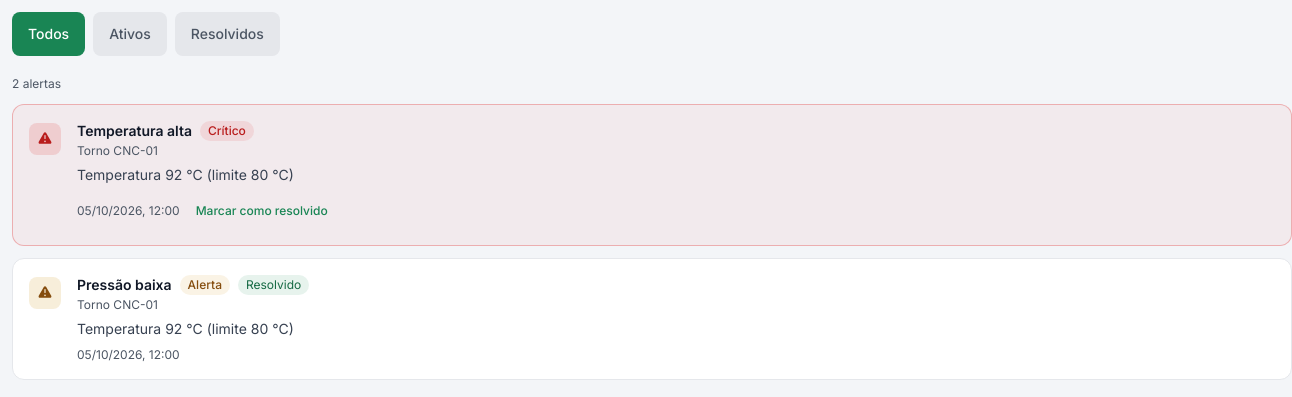
AlertsPage › lists alerts and filters active/resolved
expect the text "Temperatura alta" is shown: met, box [77,121,192,141]
expect the text "Pressão baixa" is shown: met, box [77,275,172,295]
What coordinates should you click on to do the following:
click the button "Ativos"
I would click on:
 (130, 34)
Its box is [93,12,167,56].
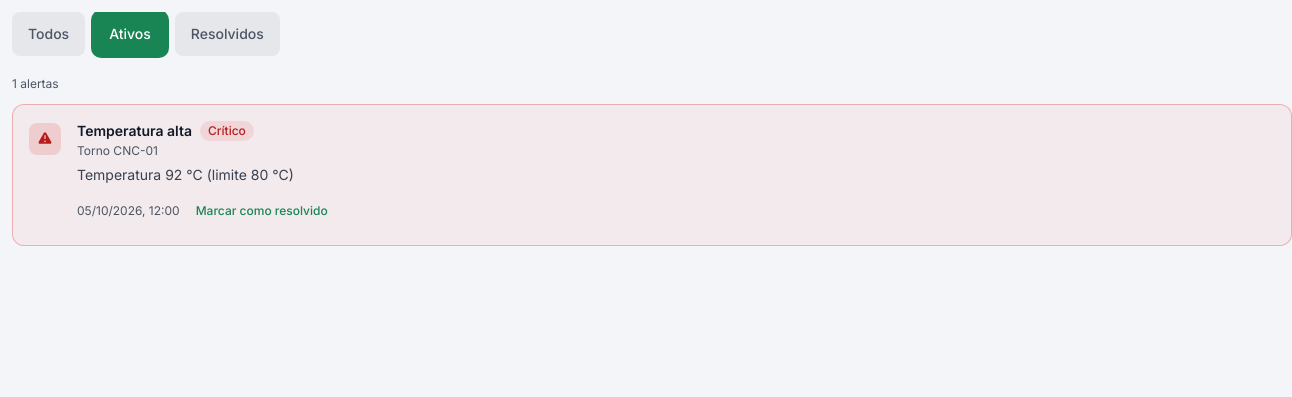
expect the text "Temperatura alta" is shown: met, box [77,121,192,141]
expect the text "Pressão baixa" is gone: met
What coordinates should you click on to do the following:
click the button "Resolvidos"
I would click on:
 (227, 34)
Its box is [175,12,280,56].
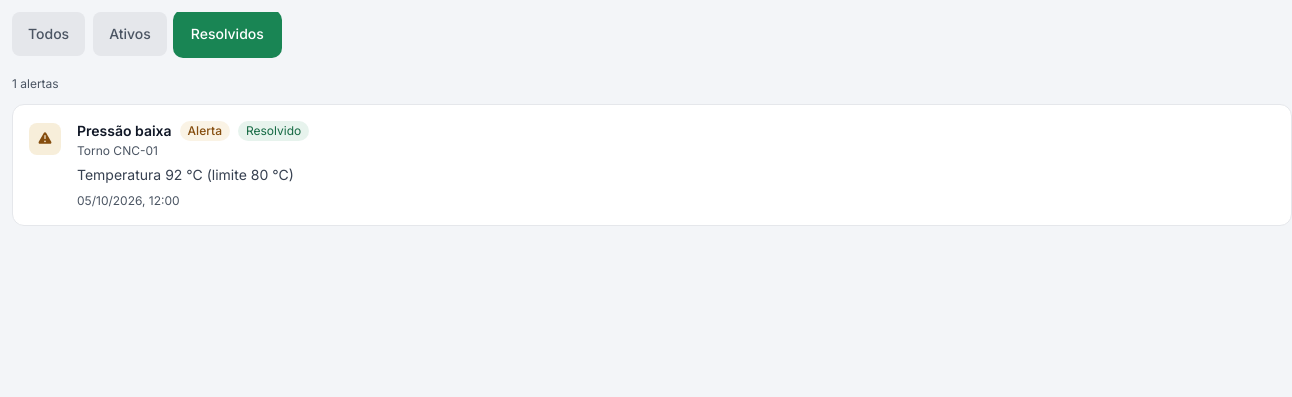
expect the text "Pressão baixa" is shown: met, box [77,121,172,141]
expect the text "Temperatura alta" is gone: met
